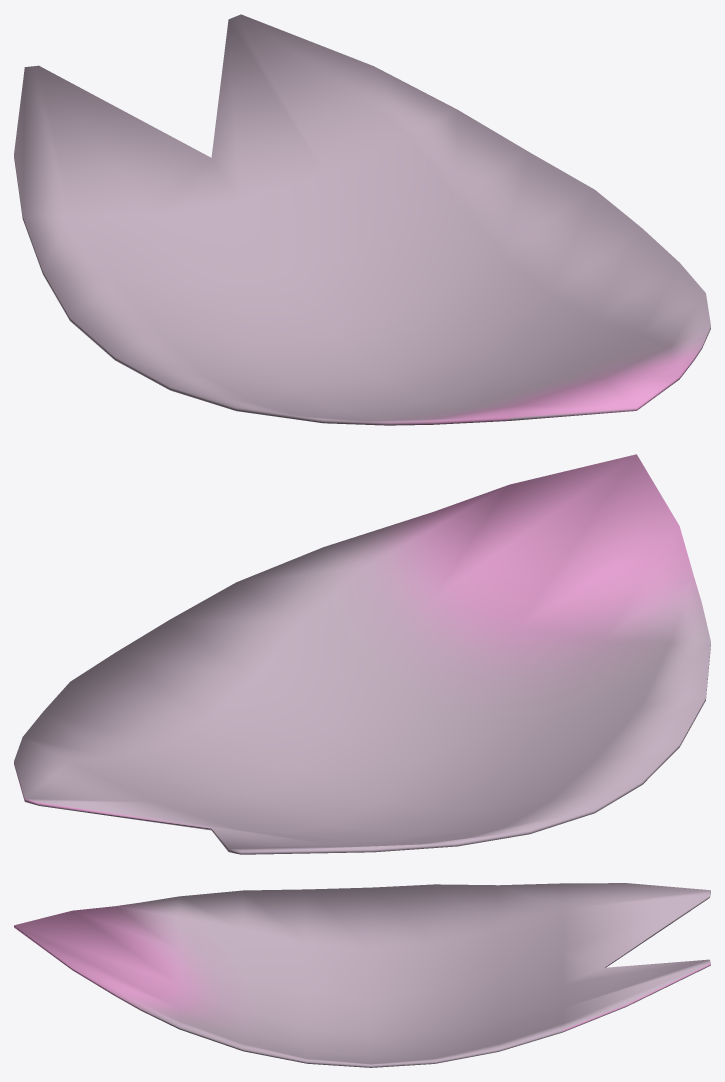
File: petal.glb
3 renders of one model, top to bottom at view 1: azimuth 30°, elevation 25°; view 2: azimuth 150°, elevation 25°; view 3: azimuth 270°, elevation 25°, orthographic. The views are drawn at different scales.
Visible parts, largest first — view 1: Cherry blossom petals; view 2: Cherry blossom petals; view 3: Cherry blossom petals.
Part boxes in pixels (<box>): Cherry blossom petals: <box>14,14,710,425</box>; Cherry blossom petals: <box>14,454,710,854</box>; Cherry blossom petals: <box>14,883,710,1067</box>.
Size of the model in its own units: 0.5841 by 0.1722 by 0.9664.
Materials: 1 (1 with a texture image).
